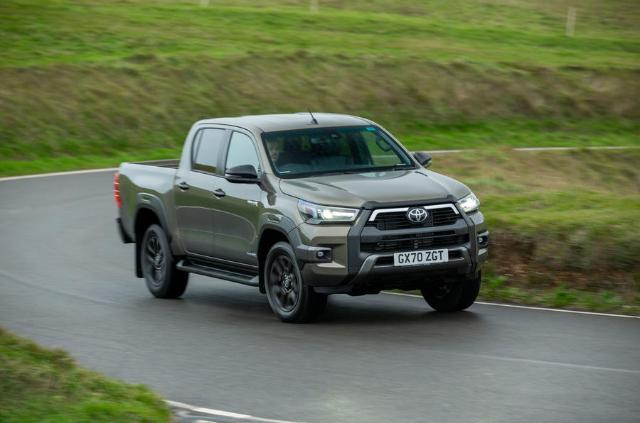pickup-truck: (114, 108, 491, 327)
